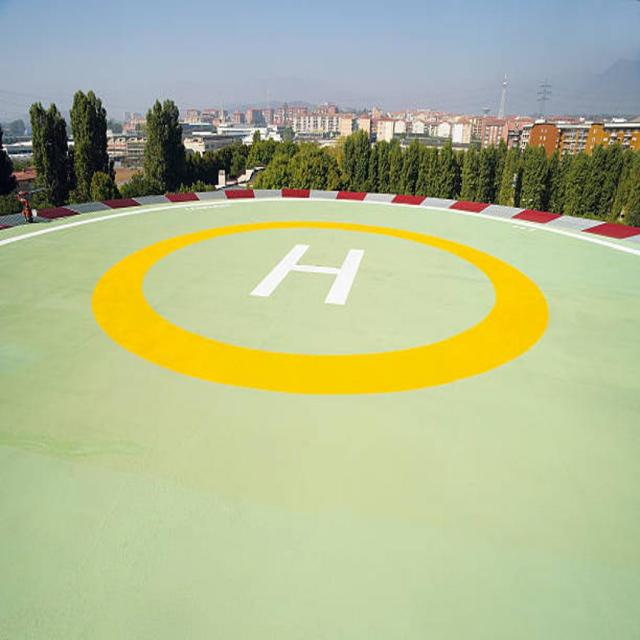helipad: (91, 218, 548, 396)
